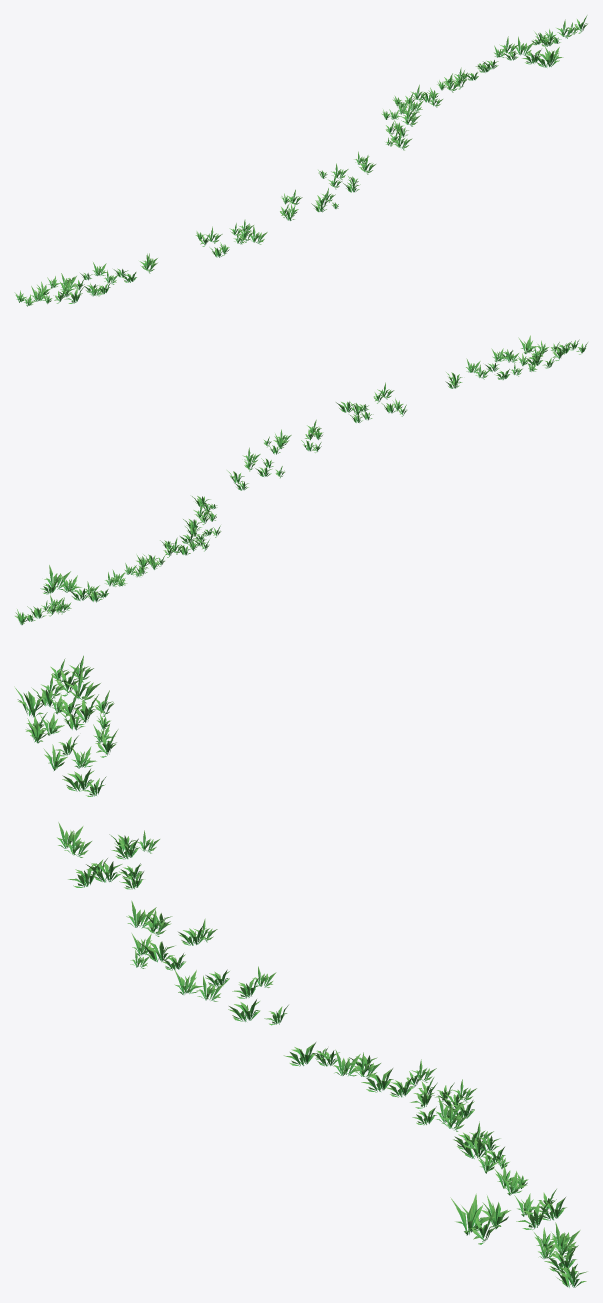
Rendered from area_02_10.fbx.
3 renders of one model, top to bottom at view 1: azimuth 30°, elevation 25°; view 2: azimuth 210°, elevation 25°; view 3: azimuth 270°, elevation 25°, orthographic. The views are drawn at different scales.
Visible parts, largest first — view 1: area_02_10; view 2: area_02_10; view 3: area_02_10.
Boxes of the visible parts, box(x1,y1,x2,y2) form: area_02_10: box(14, 15, 587, 306); area_02_10: box(15, 335, 587, 624); area_02_10: box(14, 655, 587, 1287).
Bounding box in the file's own units: 57.83 × 1.64 × 22.73.
